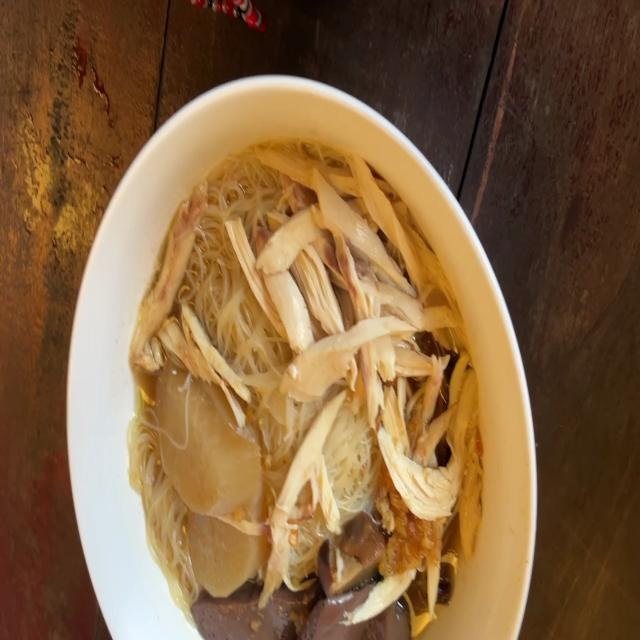boiled_chicken_blood_jelly: (194, 585, 411, 640)
chicken_shredded: (264, 161, 453, 389), (388, 367, 467, 598), (136, 187, 204, 360)
daikon_radish: (156, 371, 258, 504), (186, 505, 265, 592)
noodle: (132, 141, 486, 640)
